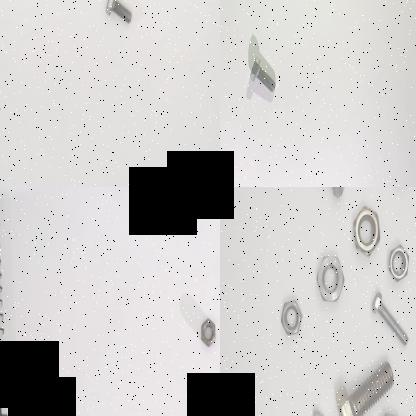Bolts: (335, 352, 392, 416), (368, 282, 411, 356), (246, 53, 278, 96), (103, 0, 133, 32), (300, 187, 349, 201)
NUTS: (348, 198, 386, 258), (314, 250, 344, 316), (276, 288, 302, 344), (384, 244, 410, 290), (198, 316, 216, 348)
